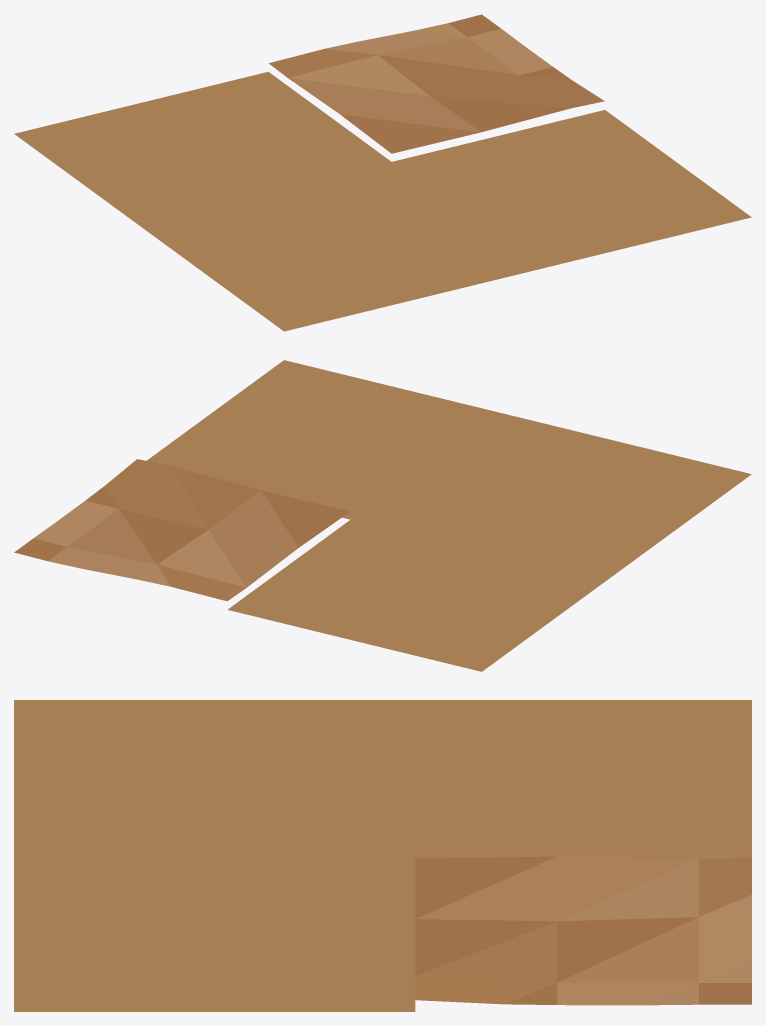
The picture shows the model from 3 angles, top to bottom: view 1: azimuth 30°, elevation 25°; view 2: azimuth 150°, elevation 25°; view 3: azimuth 270°, elevation 25°; orthographic projection. The views are drawn at different scales.
Parts seen in each view (by area): view 1: baked; view 2: baked; view 3: baked.
Part boxes in pixels (x1,y1,x2,y2): baked: (14, 14, 751, 331); baked: (14, 360, 751, 671); baked: (14, 700, 751, 1011).
Bounding box in the file's own units: 62.5 × 1.24 × 62.5.
